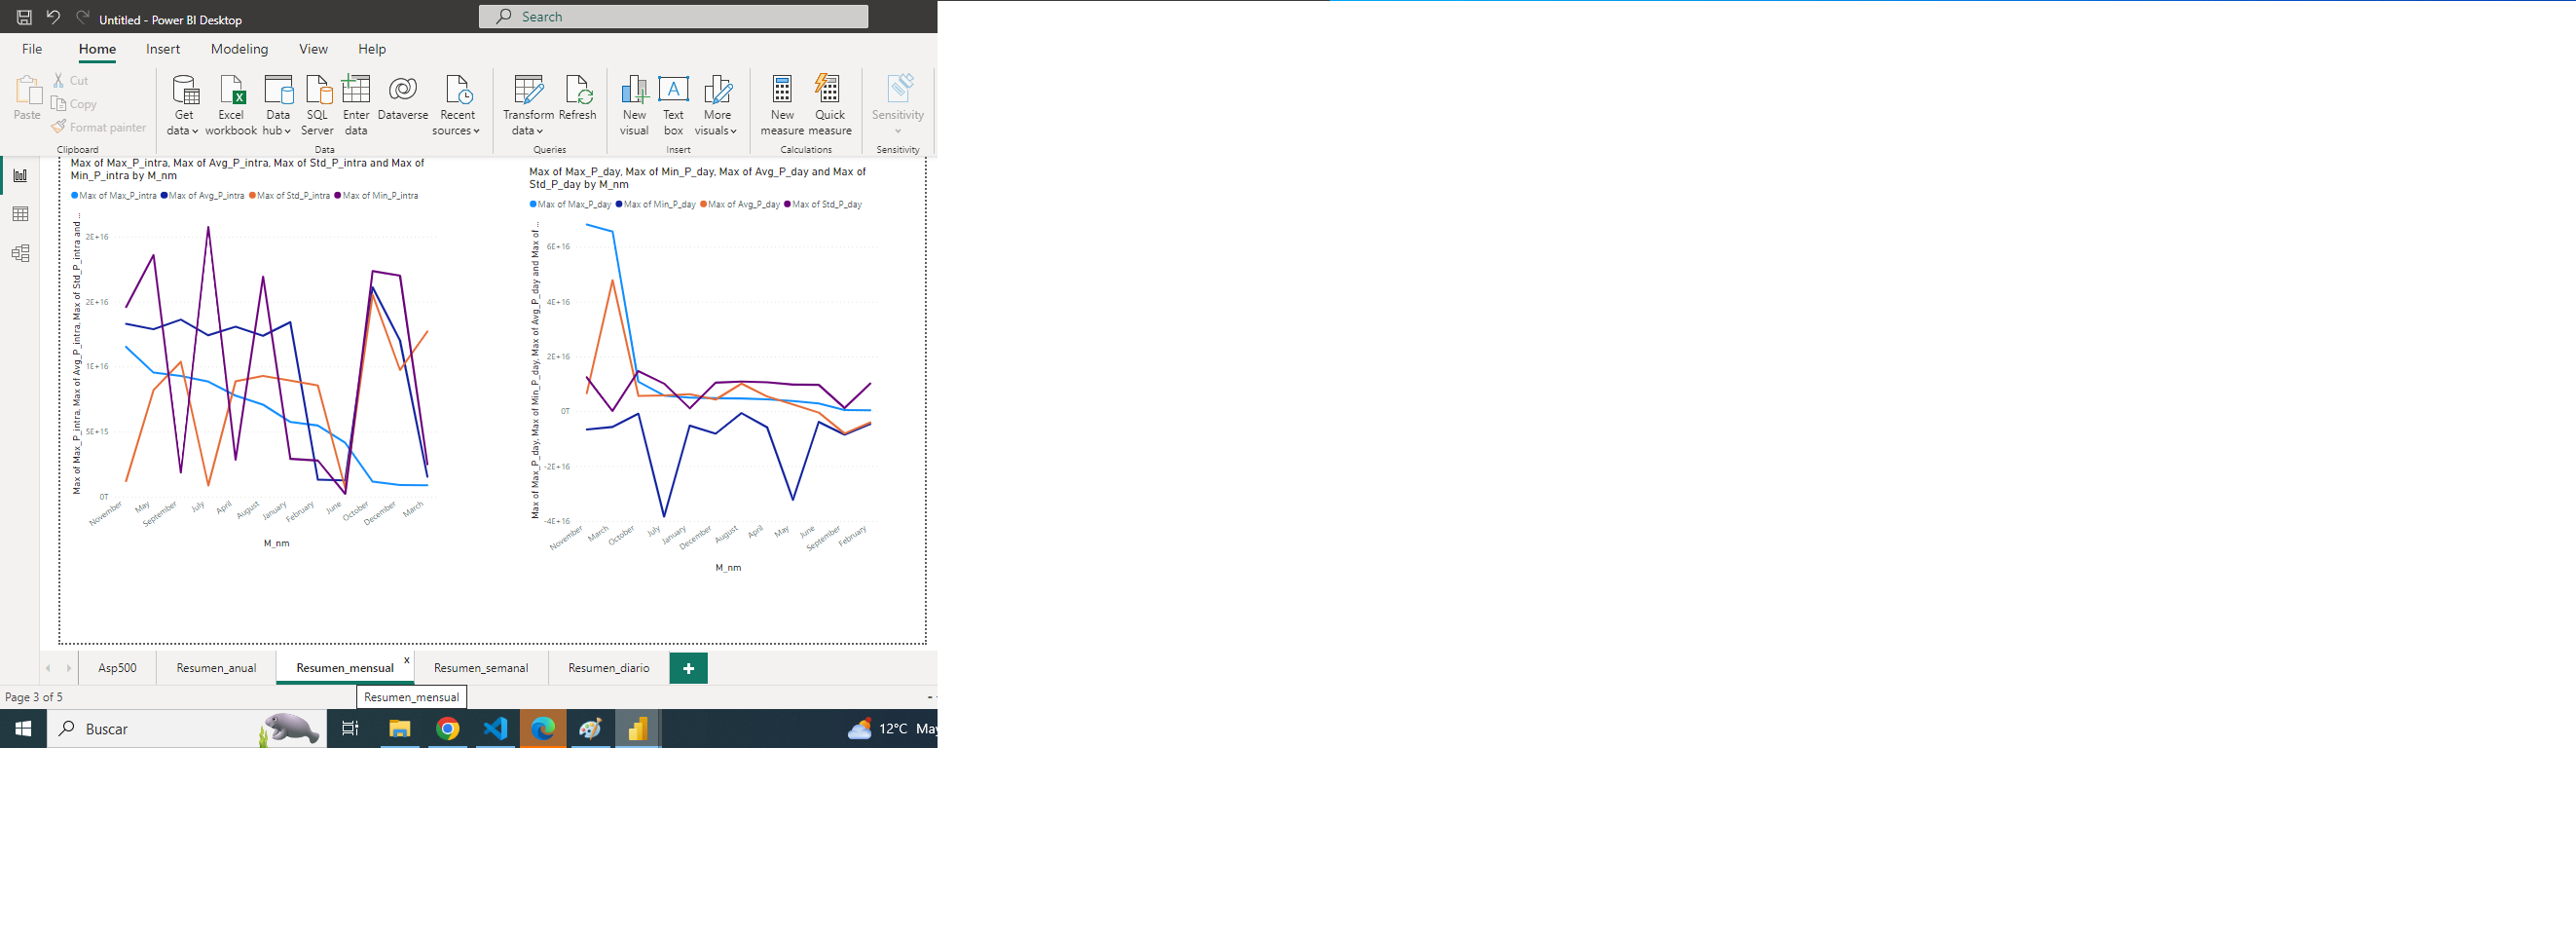

The page's visual inventory and layout, read from the dashboard file:
{"tool":"powerbi","page":{"name":"Resumen_mensual","canvas":[1280,720],"ordinal":2},"visuals":[{"type":"lineChart","fields":{"Category":["Resumen_mensual.M_nm"],"Y":["Max(Resumen_mensual.Max_P_intra)","Max(Resumen_mensual.Avg_P_intra)","Max(Resumen_mensual.Std_P_intra)","Max(Resumen_mensual.Min_P_intra)"]},"box":[10.1,0,554.4,584.6],"z":0},{"type":"lineChart","fields":{"Category":["Resumen_mensual.M_nm"],"Y":["Max(Resumen_mensual.Max_P_day)","Max(Resumen_mensual.Min_P_day)","Max(Resumen_mensual.Avg_P_day)","Max(Resumen_mensual.Std_P_day)"]},"box":[688.3,13,529.9,607.7],"z":1}]}

Visuals, with their boxes on the page's 1280x720 design canvas (x1, y1, x2, y2). These are canvas units, not pixel positions in the 2576x935 screenshot, which may show the page scaled, cropped or inside an application window:
lineChart - Resumen_mensual.M_nm x Max(Resumen_mensual.Max_P_intra): {"x1": 10, "y1": 0, "x2": 564, "y2": 585}
lineChart - Resumen_mensual.M_nm x Max(Resumen_mensual.Max_P_day): {"x1": 688, "y1": 13, "x2": 1218, "y2": 621}
